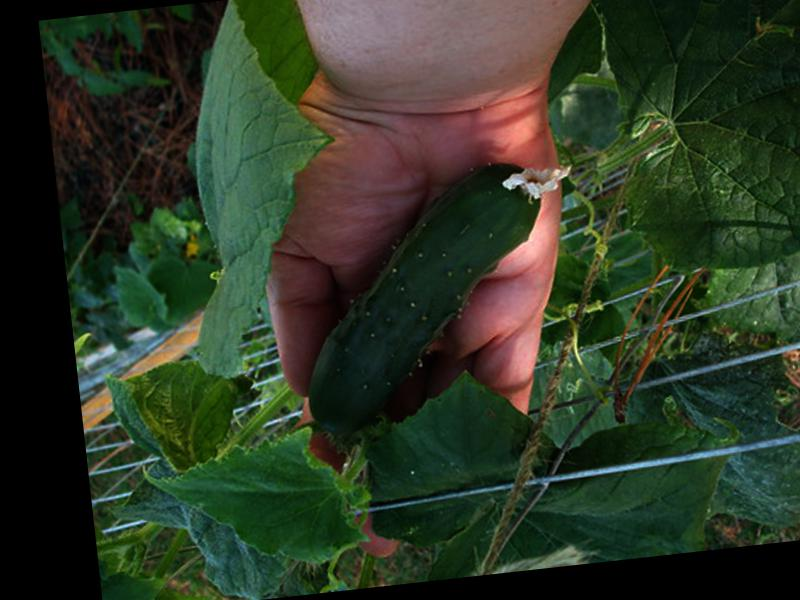Cucumber: (287, 156, 599, 437)
